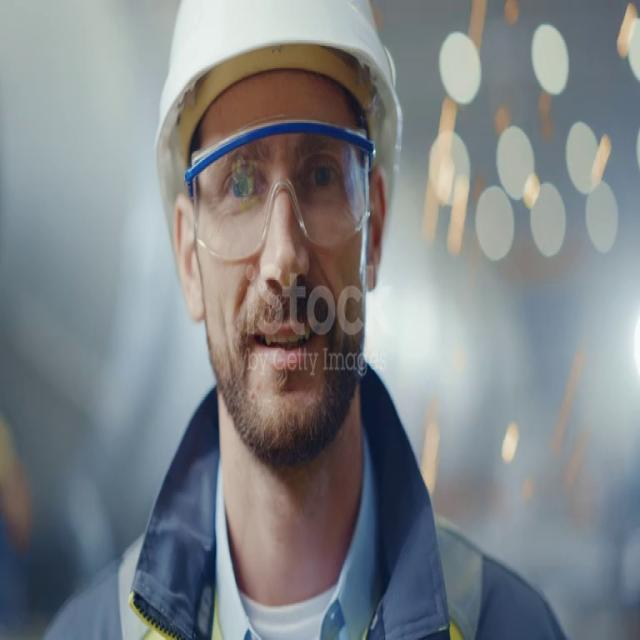capacete: (114, 0, 426, 294)
